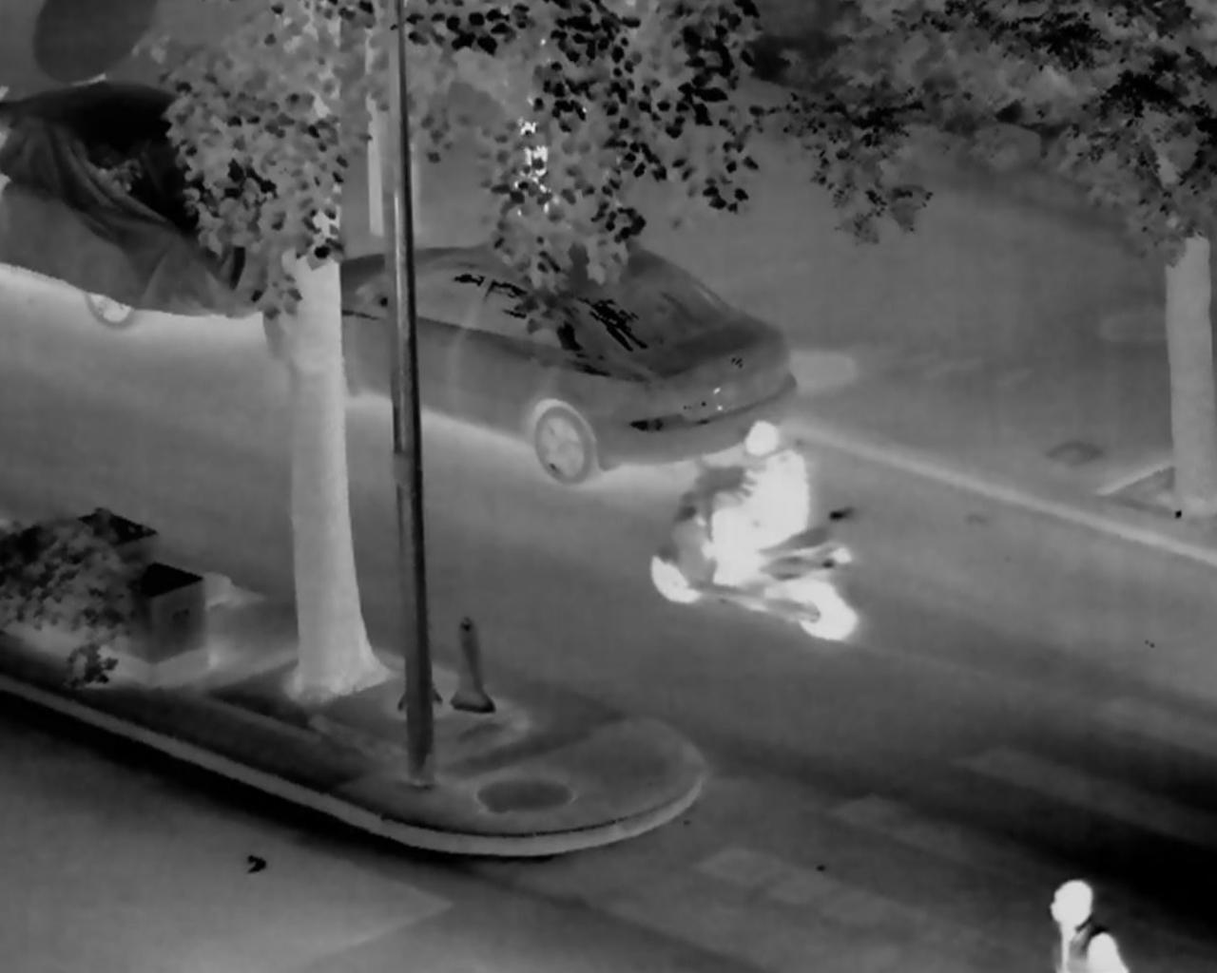person: (697, 421, 806, 592), (1046, 878, 1130, 973)
